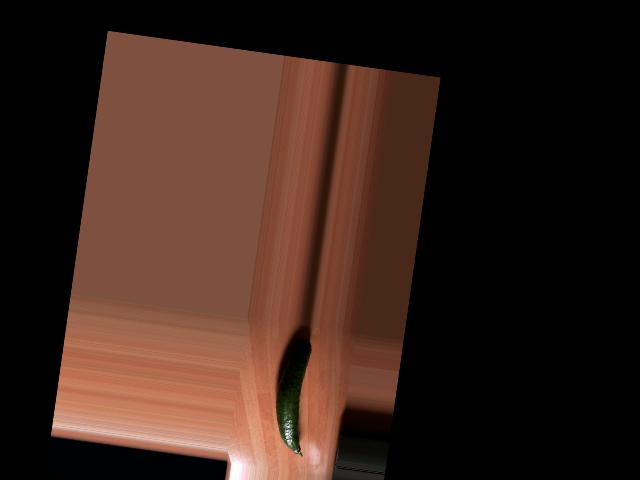cucumber: (267, 335, 318, 457)
